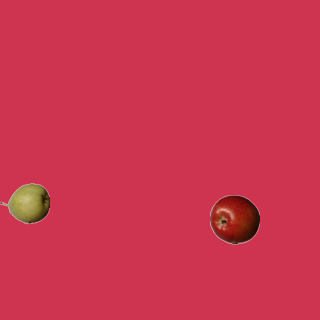Apple Braeburn: (209, 194, 259, 244)
Pear: (0, 178, 49, 228)
